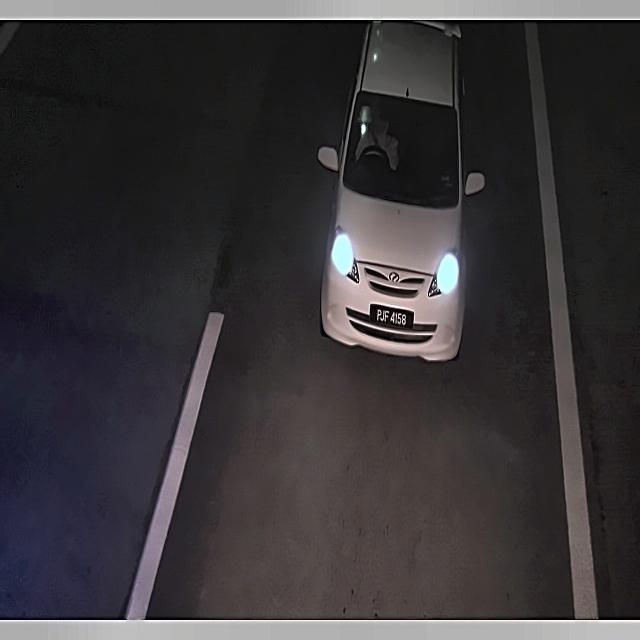car: (367, 298, 418, 339)
